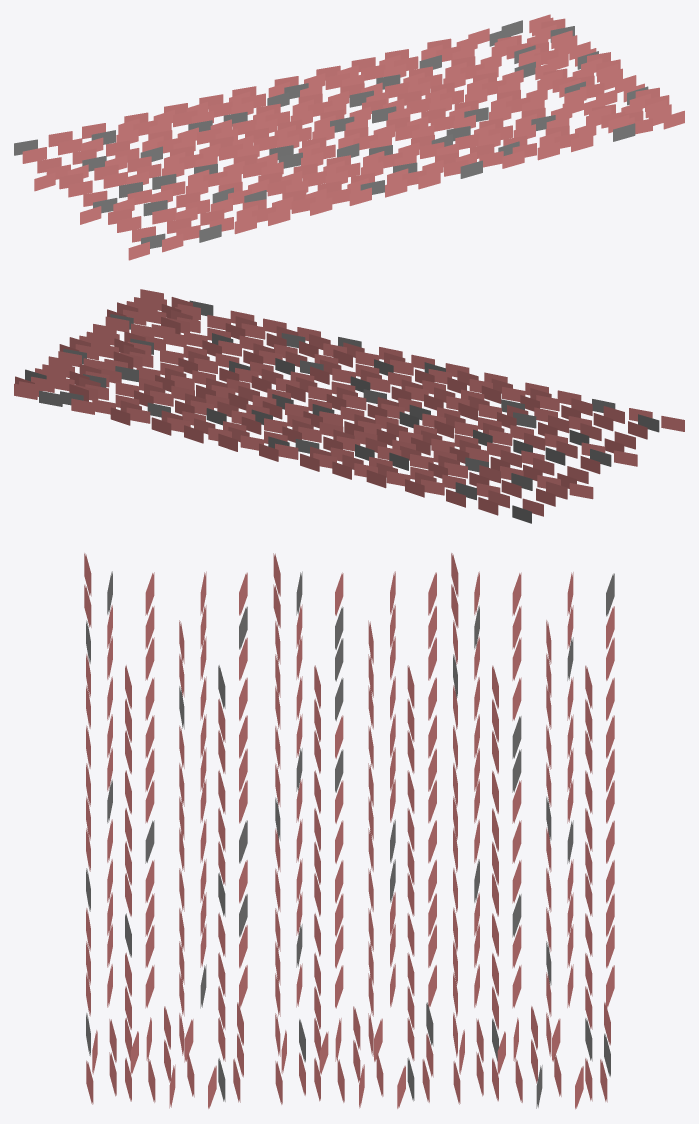
Rendered from Crowd_01.FBX.
3 renders of one model, top to bottom at view 1: azimuth 30°, elevation 25°; view 2: azimuth 150°, elevation 25°; view 3: azimuth 270°, elevation 25°, orthographic. The views are drawn at different scales.
Visible parts, largest first — view 1: crowd; view 2: crowd; view 3: crowd.
Part boxes in pixels (left/top/right/bottom): crowd: left=14, top=14, right=684, bottom=260; crowd: left=14, top=289, right=684, bottom=523; crowd: left=84, top=553, right=614, bottom=1109.
Size of the model in its own units: 2409 by 50 by 1011.
